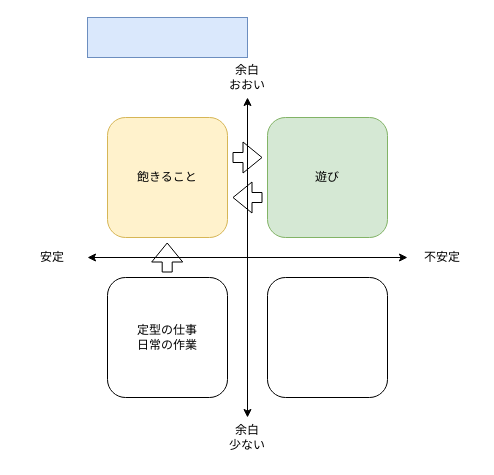
The diagram is 494 pixels wide and 475 high, and some of its shapes have lost their labels. Here are the shapes that lost their labels. From the top down, the box of each, then its label:
(86, 16, 248, 58): 遊びの"空間" ①
(266, 276, 388, 398): 災害 サバイバル
